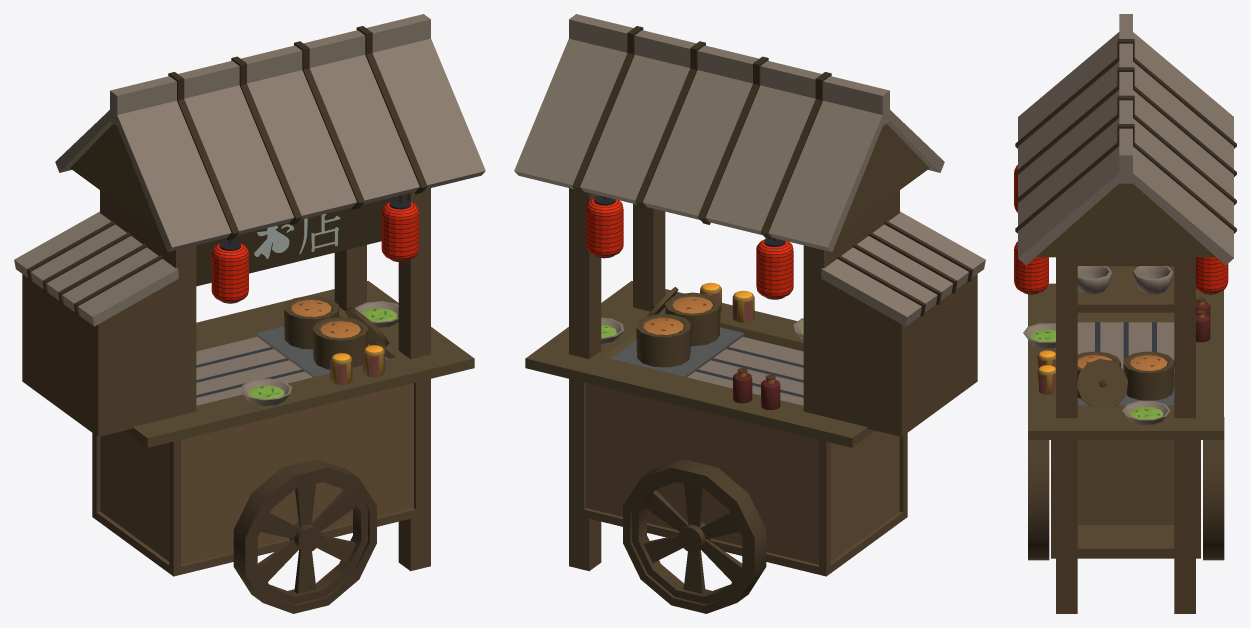
Rendered from StreetFoodProp_1.fbx.
3 renders of one model, left to right at view 1: azimuth 30°, elevation 25°; view 2: azimuth 150°, elevation 25°; view 3: azimuth 270°, elevation 25°, orthographic. The views are drawn at different scales.
Parts seen in each view (by area): view 1: StreetFoodProp_1; view 2: StreetFoodProp_1; view 3: StreetFoodProp_1.
Part boxes in pixels (box(x1,y1,x2,y2)): StreetFoodProp_1: box(14, 14, 485, 613); StreetFoodProp_1: box(514, 14, 985, 613); StreetFoodProp_1: box(1014, 14, 1236, 613).
Bounding box in the file's own units: 160 × 210 × 88.88.
